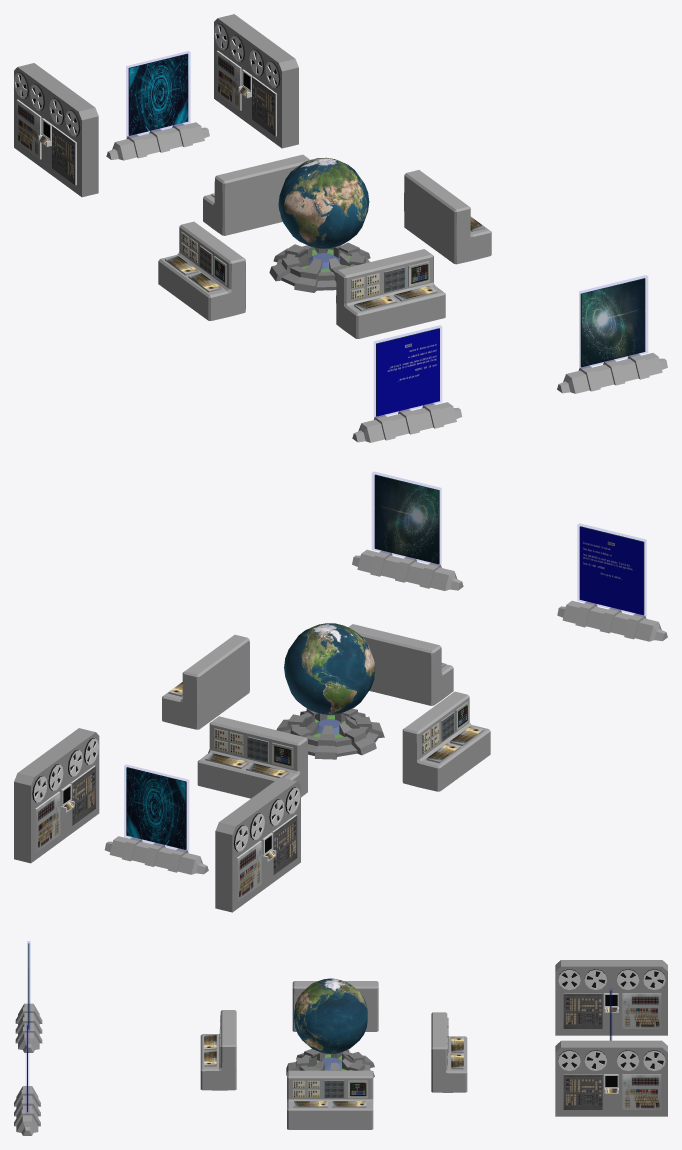
The model's file is tech_room.fbx.
The picture shows the model from 3 angles, top to bottom: view 1: azimuth 30°, elevation 25°; view 2: azimuth 150°, elevation 25°; view 3: azimuth 270°, elevation 25°; orthographic projection. The views are drawn at different scales.
Parts seen in each view (by area): view 1: pCylinder14, polySurface1415, polySurface1412, pCube59, pCube70, pCube76, pCube69, pCube77, pCube75, pCube78; view 2: pCylinder14, polySurface1412, polySurface1415, pCube59, pCube70, pCube69, pCube78, pCube77, pCube75, pCube76; view 3: polySurface1415, polySurface1412, pCylinder14, pCube75, pCube78, pCube76, pCube59, pCube70, pCube77.
Part boxes in pixels (bbox=[...]): pCylinder14: bbox=[269, 157, 370, 292]; polySurface1415: bbox=[214, 14, 298, 148]; polySurface1412: bbox=[14, 63, 98, 197]; pCube59: bbox=[557, 275, 667, 393]; pCube70: bbox=[352, 326, 462, 442]; pCube76: bbox=[336, 249, 445, 338]; pCube69: bbox=[106, 51, 209, 160]; pCube77: bbox=[158, 221, 245, 320]; pCube75: bbox=[404, 170, 491, 264]; pCube78: bbox=[203, 154, 309, 235]; pCylinder14: bbox=[276, 623, 384, 759]; polySurface1412: bbox=[215, 777, 300, 912]; polySurface1415: bbox=[14, 728, 99, 863]; pCube59: bbox=[352, 472, 463, 590]; pCube70: bbox=[557, 524, 667, 641]; pCube69: bbox=[104, 765, 208, 874]; pCube78: bbox=[197, 716, 307, 798]; pCube77: bbox=[402, 691, 490, 791]; pCube75: bbox=[162, 634, 249, 729]; pCube76: bbox=[348, 624, 453, 705]; polySurface1415: bbox=[555, 1040, 667, 1116]; polySurface1412: bbox=[555, 960, 667, 1035]; pCylinder14: bbox=[286, 978, 374, 1077]; pCube75: bbox=[287, 1070, 373, 1129]; pCube78: bbox=[431, 1012, 467, 1092]; pCube76: bbox=[200, 1010, 236, 1090]; pCube59: bbox=[14, 1023, 40, 1135]; pCube70: bbox=[15, 941, 42, 1052]; pCube77: bbox=[292, 981, 378, 1031].
Bounding box in the file's own units: 67.64 × 22.83 × 149.
Materials: 22 (11 with a texture image).
